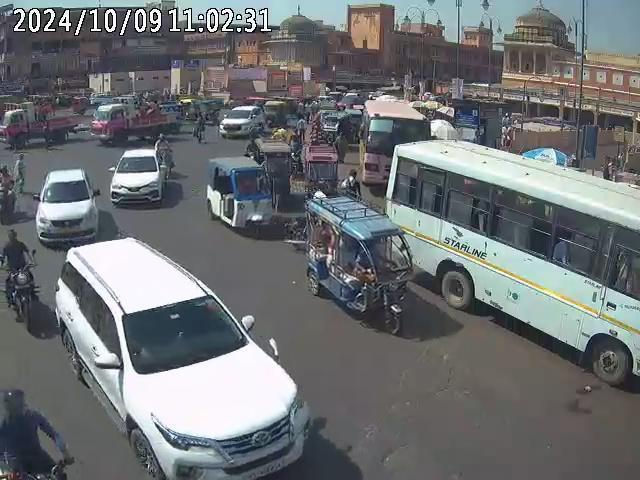auto: (304, 192, 413, 329), (203, 156, 276, 237), (304, 132, 344, 198), (267, 96, 295, 132)
bus: (383, 135, 639, 386), (359, 97, 432, 186)
car: (53, 236, 316, 479), (35, 168, 100, 249), (108, 149, 168, 208), (218, 104, 263, 140)
helmet: (2, 386, 26, 415)
lorry: (90, 100, 174, 146), (0, 105, 79, 150)
motorbike-rider: (0, 385, 75, 479), (0, 228, 40, 328)
person: (342, 160, 364, 206), (192, 112, 208, 145)
